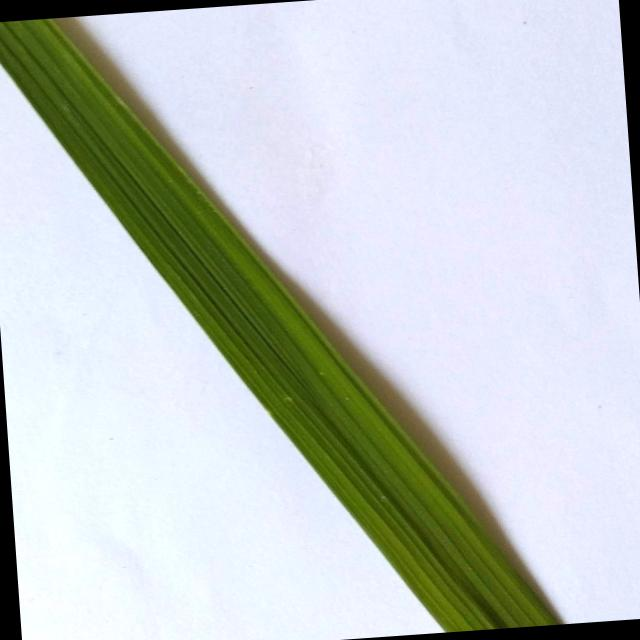Rice_Healthy: (0, 18, 564, 631)
